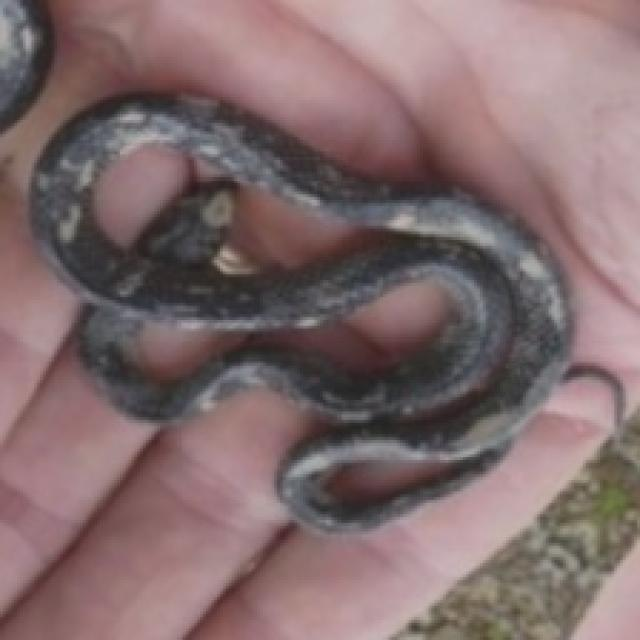gunthers philippine shrub snake: (31, 94, 569, 529)
